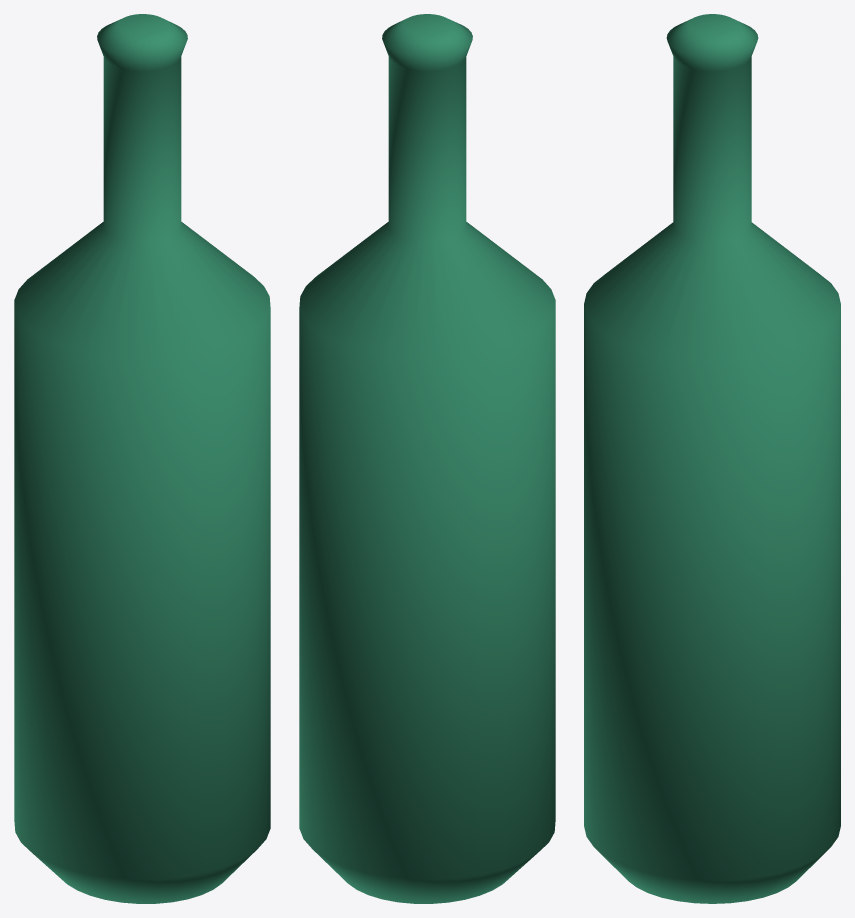
The model's file is Flasche2.fbx.
The picture shows the model from 3 angles, left to right: view 1: azimuth 30°, elevation 25°; view 2: azimuth 150°, elevation 25°; view 3: azimuth 270°, elevation 25°; orthographic projection.
Parts seen in each view (by area): view 1: pasted__Flasche2; view 2: pasted__Flasche2; view 3: pasted__Flasche2.
Boxes of the visible parts, x1,y1,x2,y2 form: pasted__Flasche2: [14, 14, 270, 903]; pasted__Flasche2: [299, 14, 555, 903]; pasted__Flasche2: [584, 14, 840, 903].
Bounding box in the file's own units: 0.0908 × 0.3286 × 0.0908.
